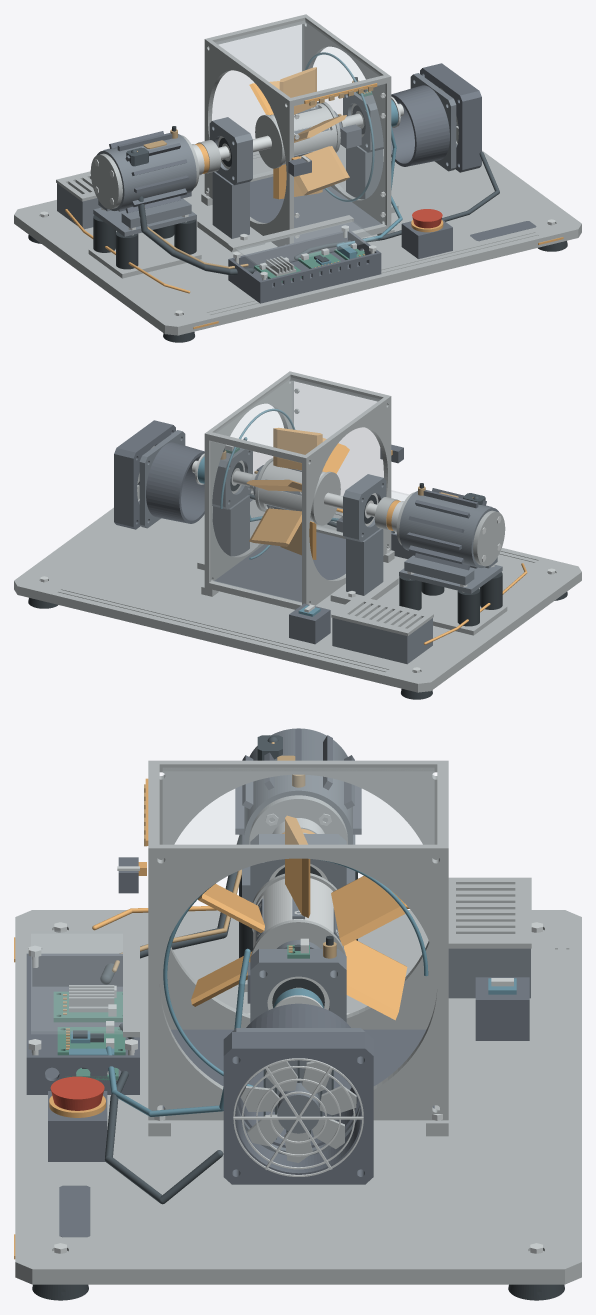
3 views of the same model, one above another, from view 1: azimuth 30°, elevation 25°; view 2: azimuth 150°, elevation 25°; view 3: azimuth 270°, elevation 25° (orthographic). The views are drawn at different scales.
Parts seen in each view (by area): view 1: TE-014:1, TE-001:1, TE-025:1, TE-003:1, TE-013:1, TE-011:1, TE-007:1, TE-026:1, TE-012:1, TE-007:2, TE-008:1, TE-021:1 (+11 smaller); view 2: TE-001:1, TE-014:1, TE-003:1, TE-022:1, TE-013:1, TE-011:1, TE-007:1, TE-007:2, TE-012:1, TE-008:1, TE-009:5, TE-023:1 (+9 smaller); view 3: TE-001:1, TE-014:1, TE-012:1, TE-025:1, TE-003:1, TE-022:1, TE-026:1, TE-021:1, TE-007:2, TE-008:1, TE-013:1, TE-023:1 (+13 smaller).
Boxes of the visible parts, <box> form: TE-014:1: <box>201,14,394,246</box>; TE-001:1: <box>14,141,581,335</box>; TE-025:1: <box>228,215,381,303</box>; TE-003:1: <box>90,131,199,228</box>; TE-013:1: <box>391,73,456,171</box>; TE-011:1: <box>88,208,201,278</box>; TE-007:1: <box>197,117,265,251</box>; TE-026:1: <box>65,125,499,293</box>; TE-012:1: <box>420,63,481,172</box>; TE-007:2: <box>341,92,398,213</box>; TE-008:1: <box>255,101,340,168</box>; TE-021:1: <box>401,209,452,258</box>; TE-001:1: <box>14,490,581,692</box>; TE-014:1: <box>201,371,394,609</box>; TE-003:1: <box>396,488,505,585</box>; TE-022:1: <box>331,595,433,664</box>; TE-013:1: <box>139,430,204,528</box>; TE-011:1: <box>399,565,507,635</box>; TE-007:1: <box>330,474,398,604</box>; TE-007:2: <box>197,448,254,570</box>; TE-012:1: <box>114,420,175,529</box>; TE-008:1: <box>255,458,340,525</box>; TE-009:5: <box>249,504,301,546</box>; TE-023:1: <box>289,603,330,644</box>; TE-001:1: <box>14,910,581,1284</box>; TE-014:1: <box>144,760,448,1136</box>; TE-012:1: <box>223,1032,373,1184</box>; TE-025:1: <box>26,928,139,1094</box>; TE-003:1: <box>235,728,361,900</box>; TE-022:1: <box>448,877,531,998</box>; TE-026:1: <box>92,736,409,1204</box>; TE-021:1: <box>48,1076,107,1161</box>; TE-007:2: <box>250,949,346,1112</box>; TE-008:1: <box>251,873,345,955</box>; TE-013:1: <box>232,1003,364,1155</box>; TE-023:1: <box>475,977,529,1040</box>.
Bounding box in the file's own units: 0.3 × 0.126 × 0.2005.
